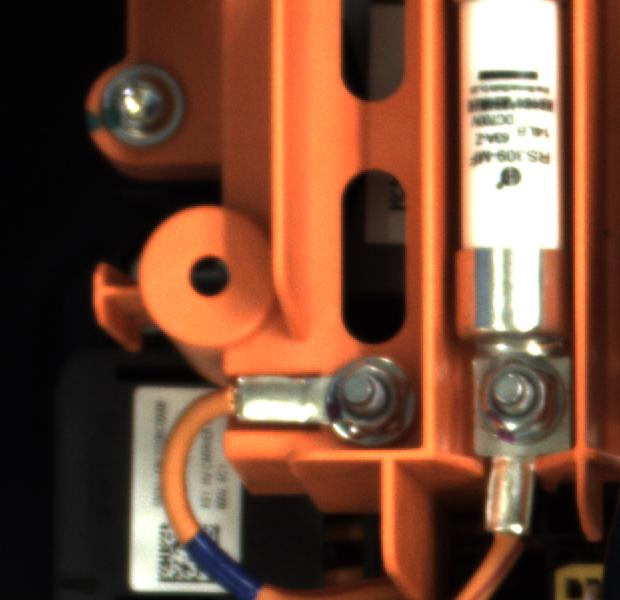screw_m: (83, 60, 200, 164)
screw_s: (468, 352, 574, 447), (309, 345, 418, 437)
